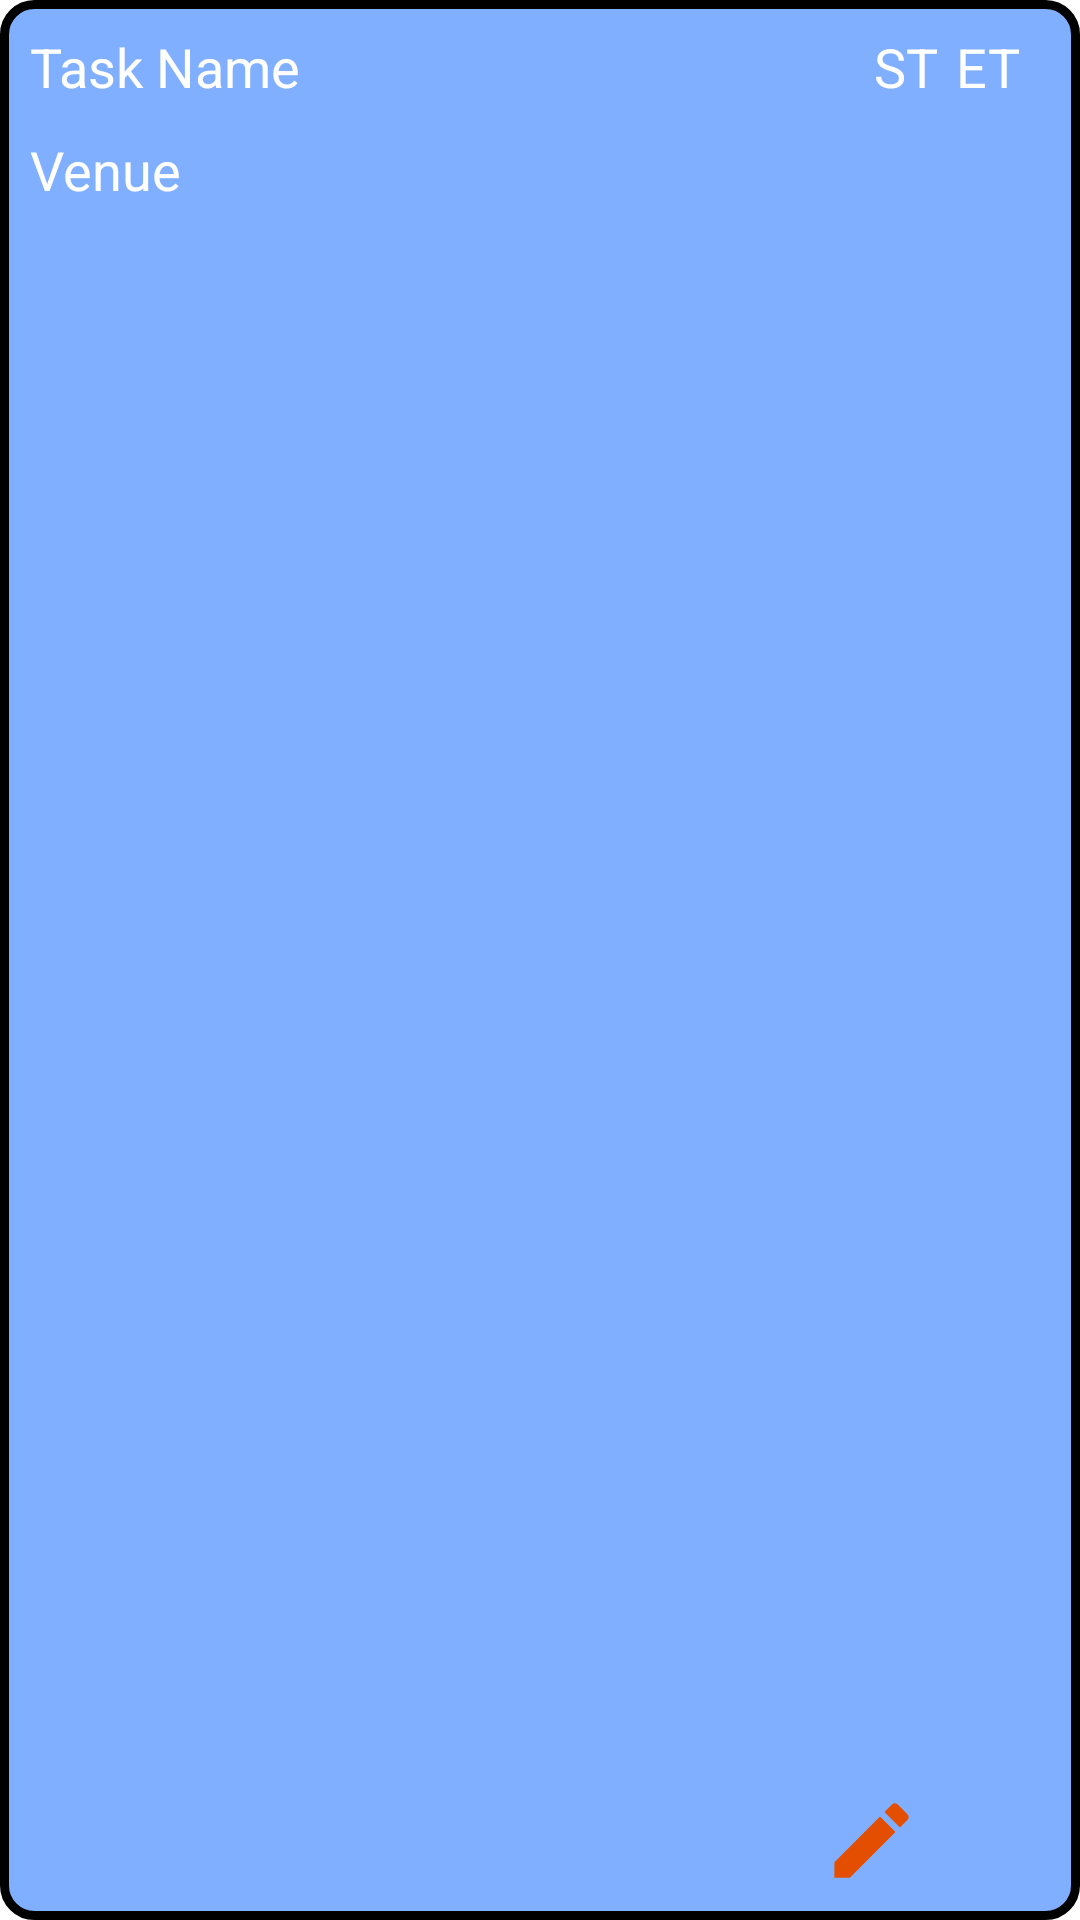

Icons on this 1080px×1920px Android screen, each with its box as (x1, y1, x2, y2):
edit: (834, 1803, 909, 1878)
